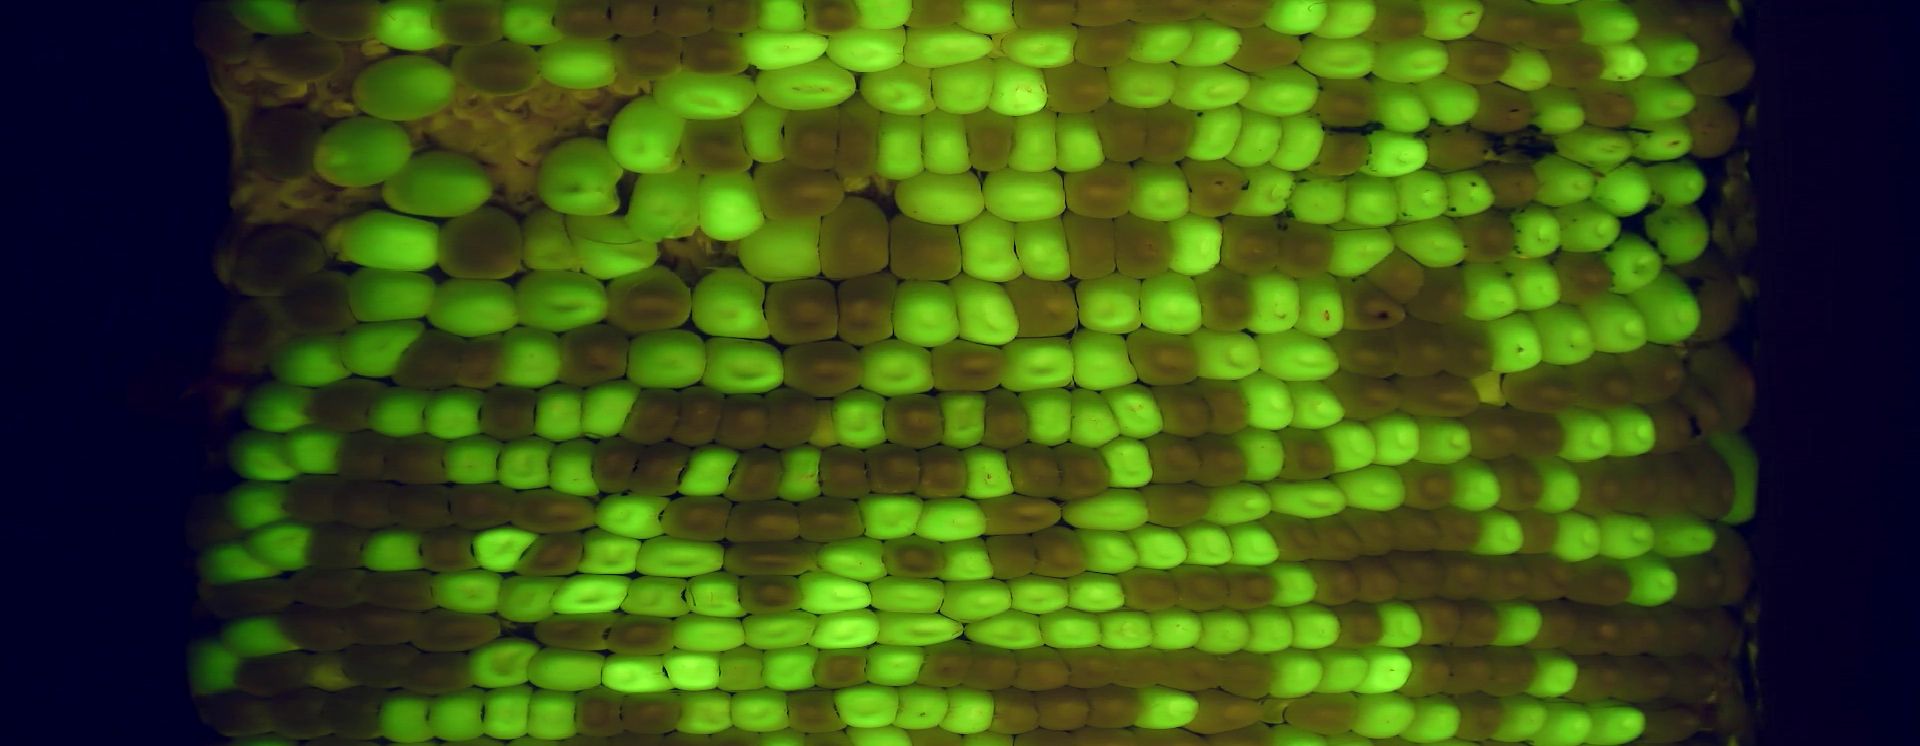fluorescent: (312, 115, 411, 191), (562, 209, 666, 278), (538, 137, 629, 214), (351, 51, 457, 118), (340, 205, 444, 271), (381, 153, 493, 211), (511, 267, 609, 333), (606, 93, 687, 171), (691, 266, 775, 338), (430, 271, 520, 337), (336, 317, 426, 383), (622, 168, 702, 241), (738, 218, 829, 282), (1630, 271, 1704, 345), (890, 168, 988, 224), (655, 71, 760, 122), (268, 333, 365, 388), (345, 266, 436, 325), (749, 62, 857, 110), (976, 167, 1071, 220), (703, 334, 789, 394), (699, 167, 767, 243), (627, 330, 711, 390), (857, 336, 942, 396), (1229, 65, 1322, 118), (1707, 434, 1760, 527), (948, 278, 1019, 345), (1251, 323, 1340, 377), (891, 281, 960, 349), (1062, 326, 1140, 386), (242, 379, 324, 434), (1138, 269, 1205, 334), (498, 326, 567, 390), (229, 426, 310, 480), (1010, 213, 1071, 284), (1000, 336, 1082, 388), (1076, 273, 1150, 332), (632, 533, 730, 577), (1531, 304, 1599, 366), (1127, 160, 1198, 220), (858, 65, 939, 118), (591, 488, 673, 539), (538, 40, 618, 92), (959, 216, 1022, 281), (1648, 201, 1711, 267), (1164, 64, 1258, 108), (1555, 195, 1627, 251), (904, 24, 996, 69), (1194, 325, 1269, 379), (1392, 216, 1468, 268), (1582, 296, 1651, 354), (372, 1, 451, 51), (1300, 33, 1380, 82), (1002, 105, 1060, 171), (1229, 164, 1304, 216), (1603, 234, 1665, 295), (1182, 100, 1247, 159), (576, 380, 640, 439), (544, 439, 609, 497), (354, 522, 430, 572), (429, 570, 506, 619), (1556, 124, 1640, 169), (927, 62, 997, 116), (1063, 489, 1156, 529), (1106, 59, 1180, 109), (1487, 314, 1549, 374), (989, 58, 1053, 116), (528, 646, 606, 693), (1360, 410, 1425, 468), (741, 29, 828, 72), (1442, 458, 1509, 514), (814, 537, 896, 582), (1326, 467, 1409, 511), (463, 639, 541, 686), (579, 522, 647, 576), (740, 606, 824, 649), (1356, 131, 1438, 175), (1242, 273, 1303, 332), (367, 383, 431, 440), (849, 492, 923, 540), (1411, 412, 1477, 465), (872, 608, 969, 644), (1418, 75, 1485, 127), (1071, 526, 1147, 572), (830, 393, 891, 451), (936, 388, 993, 450), (1265, 477, 1349, 518), (738, 96, 789, 165), (478, 687, 542, 741), (1053, 109, 1106, 175), (497, 437, 563, 490), (471, 522, 538, 575), (1162, 213, 1222, 271), (1016, 387, 1076, 445), (224, 481, 296, 529), (1460, 260, 1521, 316), (1294, 274, 1349, 337), (1501, 256, 1565, 310), (676, 443, 740, 497), (247, 523, 321, 570), (1329, 224, 1395, 276), (1555, 407, 1621, 458), (287, 428, 353, 479), (1240, 372, 1299, 430), (1322, 415, 1382, 472), (1340, 171, 1402, 225), (874, 111, 928, 174), (1104, 383, 1167, 437), (962, 610, 1048, 649), (520, 206, 573, 269), (198, 544, 287, 582), (1284, 376, 1349, 428), (422, 387, 489, 437), (669, 610, 748, 652), (1392, 168, 1451, 224), (1191, 604, 1251, 659), (496, 572, 564, 620), (533, 383, 587, 443), (831, 684, 902, 729), (726, 685, 793, 733), (220, 616, 302, 655), (442, 434, 504, 485), (373, 692, 437, 742), (1135, 685, 1204, 731), (185, 639, 242, 695), (912, 497, 991, 538), (624, 576, 694, 621), (921, 111, 973, 171), (1070, 385, 1120, 447), (1354, 693, 1422, 740), (1000, 29, 1080, 69), (796, 575, 876, 614), (827, 31, 909, 69), (962, 442, 1018, 499), (1236, 426, 1289, 484), (523, 687, 580, 741), (808, 608, 880, 650), (1371, 78, 1430, 131), (688, 571, 748, 622), (1622, 556, 1682, 608), (1098, 439, 1160, 489), (598, 650, 673, 691), (1378, 38, 1449, 81), (1493, 47, 1564, 89), (1533, 458, 1587, 514), (1474, 505, 1531, 559), (500, 1, 568, 45), (1511, 202, 1562, 261), (778, 445, 829, 503), (867, 578, 951, 614), (1633, 115, 1697, 162), (1183, 20, 1240, 71), (1266, 650, 1325, 701), (894, 681, 953, 731), (1580, 1, 1644, 47), (936, 537, 1000, 582), (1631, 77, 1700, 120), (1594, 510, 1654, 559), (1038, 608, 1107, 650), (658, 649, 726, 692), (860, 643, 928, 686), (937, 579, 1011, 619), (1234, 105, 1282, 167), (1288, 175, 1351, 222), (1371, 598, 1428, 649), (1287, 601, 1344, 652), (1239, 608, 1299, 655), (1587, 701, 1651, 745), (1204, 485, 1280, 522), (1649, 514, 1720, 554), (1147, 606, 1209, 652), (430, 692, 486, 741), (673, 688, 736, 733), (940, 686, 998, 734), (556, 575, 631, 611), (1130, 524, 1190, 570), (760, 644, 820, 690), (1531, 650, 1581, 704), (1644, 159, 1708, 201), (1363, 647, 1413, 699), (1613, 401, 1660, 456), (1097, 608, 1158, 650), (1224, 519, 1281, 566), (1265, 559, 1321, 605), (1498, 693, 1554, 740), (1537, 85, 1589, 134), (1551, 508, 1600, 561), (1139, 20, 1193, 67), (1493, 601, 1547, 649), (1404, 695, 1464, 737), (1442, 169, 1498, 216), (1420, 1, 1485, 40), (1642, 36, 1704, 76), (1261, 1, 1335, 36), (1280, 110, 1318, 175), (1311, 1, 1380, 37), (1598, 38, 1653, 82), (1180, 521, 1236, 565), (718, 646, 767, 695), (1322, 649, 1371, 697), (1067, 575, 1129, 611), (229, 2, 302, 31), (1007, 579, 1073, 610), (958, 1, 1022, 32), (1542, 703, 1592, 742), (853, 1, 918, 31), (753, 1, 806, 36)
nonfluorescent: (231, 218, 331, 299), (435, 205, 529, 279), (244, 102, 331, 183), (277, 263, 361, 338), (820, 197, 895, 282), (602, 266, 697, 330), (1675, 260, 1742, 344), (555, 322, 637, 390), (888, 214, 969, 282), (1003, 273, 1084, 339), (1693, 345, 1753, 434), (765, 277, 845, 343), (511, 483, 604, 539), (757, 160, 845, 219), (451, 45, 553, 94), (249, 34, 351, 81), (394, 326, 464, 394), (1062, 160, 1142, 219), (778, 341, 863, 396), (1173, 156, 1251, 216), (1190, 265, 1258, 332), (838, 277, 902, 347), (1127, 328, 1201, 387), (680, 115, 752, 175), (1060, 211, 1122, 281), (212, 298, 277, 363), (1322, 370, 1404, 420), (927, 341, 1007, 392), (1417, 124, 1500, 173), (785, 103, 846, 169), (1393, 370, 1480, 416), (1327, 326, 1403, 379), (419, 608, 504, 654), (1220, 212, 1281, 276), (430, 1, 513, 48), (204, 579, 306, 617), (1091, 99, 1152, 162), (362, 565, 438, 615), (1338, 274, 1407, 330), (311, 379, 386, 429), (1113, 216, 1174, 277), (294, 1, 389, 40), (838, 96, 885, 174), (1684, 96, 1742, 159), (1042, 62, 1113, 115), (978, 492, 1068, 534), (290, 563, 373, 608), (1150, 381, 1213, 439), (726, 499, 804, 545), (1167, 559, 1234, 612), (342, 644, 421, 690), (962, 110, 1022, 170), (1627, 347, 1689, 405), (1280, 218, 1336, 282), (1551, 249, 1615, 305), (884, 393, 949, 448), (1569, 356, 1635, 410), (763, 388, 820, 450), (479, 383, 540, 440), (666, 492, 735, 543), (1189, 690, 1265, 735), (675, 386, 729, 450), (1471, 81, 1536, 134), (721, 385, 773, 451), (795, 495, 869, 540), (727, 446, 786, 503), (1053, 442, 1113, 499), (233, 652, 311, 695), (1314, 75, 1378, 127), (721, 539, 816, 575), (1440, 321, 1498, 379), (1231, 29, 1305, 73), (980, 385, 1031, 448), (1260, 511, 1324, 562), (1567, 555, 1632, 605), (1005, 440, 1063, 496), (612, 33, 686, 77), (1142, 103, 1198, 162), (1502, 367, 1576, 412), (862, 443, 922, 497), (184, 491, 244, 545), (1689, 49, 1757, 96), (446, 483, 518, 527), (535, 614, 616, 653), (1359, 1, 1429, 47), (388, 432, 448, 485), (518, 528, 585, 575), (1160, 646, 1227, 692), (1281, 695, 1360, 734), (680, 31, 754, 72), (1393, 322, 1449, 379), (1687, 1, 1739, 61), (628, 383, 680, 443), (1144, 434, 1204, 485), (611, 610, 677, 657), (1141, 484, 1215, 526), (1116, 567, 1183, 612), (206, 690, 273, 735), (782, 691, 853, 734), (1453, 214, 1517, 262), (1198, 377, 1251, 434), (916, 445, 972, 499), (966, 638, 1022, 692), (817, 443, 874, 496), (1669, 554, 1727, 606), (288, 472, 347, 523), (271, 691, 336, 737), (1275, 428, 1335, 478), (1611, 456, 1660, 517), (389, 485, 456, 530), (1480, 160, 1543, 208), (590, 432, 638, 495), (282, 608, 358, 647), (1491, 459, 1547, 513), (1464, 404, 1521, 457), (457, 331, 507, 390), (620, 690, 684, 735), (338, 477, 398, 526), (1216, 650, 1276, 699), (348, 606, 422, 646), (1473, 1, 1539, 45), (326, 691, 388, 737), (1319, 127, 1373, 181), (637, 441, 687, 499), (1218, 563, 1282, 609), (1445, 40, 1511, 83), (735, 572, 804, 612), (1547, 40, 1607, 87), (1653, 454, 1700, 514), (1193, 435, 1249, 484), (1400, 462, 1456, 511), (1453, 595, 1502, 652), (409, 650, 471, 695), (1303, 559, 1360, 606), (1616, 604, 1662, 664), (1411, 597, 1464, 647), (1030, 688, 1091, 733), (1528, 5, 1586, 51), (1016, 648, 1074, 695), (1451, 691, 1502, 742), (1416, 267, 1464, 321), (1341, 508, 1395, 557), (1619, 657, 1673, 706), (1073, 27, 1138, 67), (1062, 644, 1119, 690), (571, 687, 628, 733), (1724, 526, 1758, 601), (1440, 552, 1491, 603), (1393, 552, 1447, 600), (1331, 601, 1385, 649), (1700, 447, 1738, 514), (553, 1, 615, 43), (1640, 704, 1701, 746), (1578, 461, 1622, 518), (1369, 256, 1428, 299), (922, 639, 971, 691), (342, 428, 389, 480), (1512, 409, 1566, 456), (1581, 85, 1637, 129), (1524, 552, 1573, 603), (1488, 646, 1536, 697), (1402, 647, 1453, 695), (1653, 606, 1706, 653), (1665, 654, 1718, 701), (989, 690, 1044, 734), (421, 529, 478, 572), (192, 23, 253, 62), (1389, 506, 1442, 550), (814, 648, 873, 688), (1080, 686, 1139, 726), (1313, 514, 1362, 562), (1444, 648, 1491, 697), (1116, 646, 1166, 692), (984, 538, 1040, 579), (1517, 508, 1564, 557), (1356, 556, 1404, 603), (1032, 530, 1082, 576), (312, 526, 366, 567), (1434, 506, 1480, 554), (882, 540, 942, 577), (1573, 610, 1620, 657), (1069, 1, 1145, 29), (1575, 657, 1622, 701), (1678, 383, 1720, 432), (1202, 1, 1276, 29), (1633, 1, 1693, 36), (1127, 1, 1210, 26), (1644, 407, 1691, 450), (1014, 1, 1078, 32), (1487, 556, 1532, 599), (1534, 603, 1573, 652), (658, 1, 713, 36), (1700, 605, 1738, 654), (1709, 688, 1752, 731), (806, 1, 861, 32), (711, 1, 765, 32), (612, 2, 658, 38), (902, 1, 962, 26)
